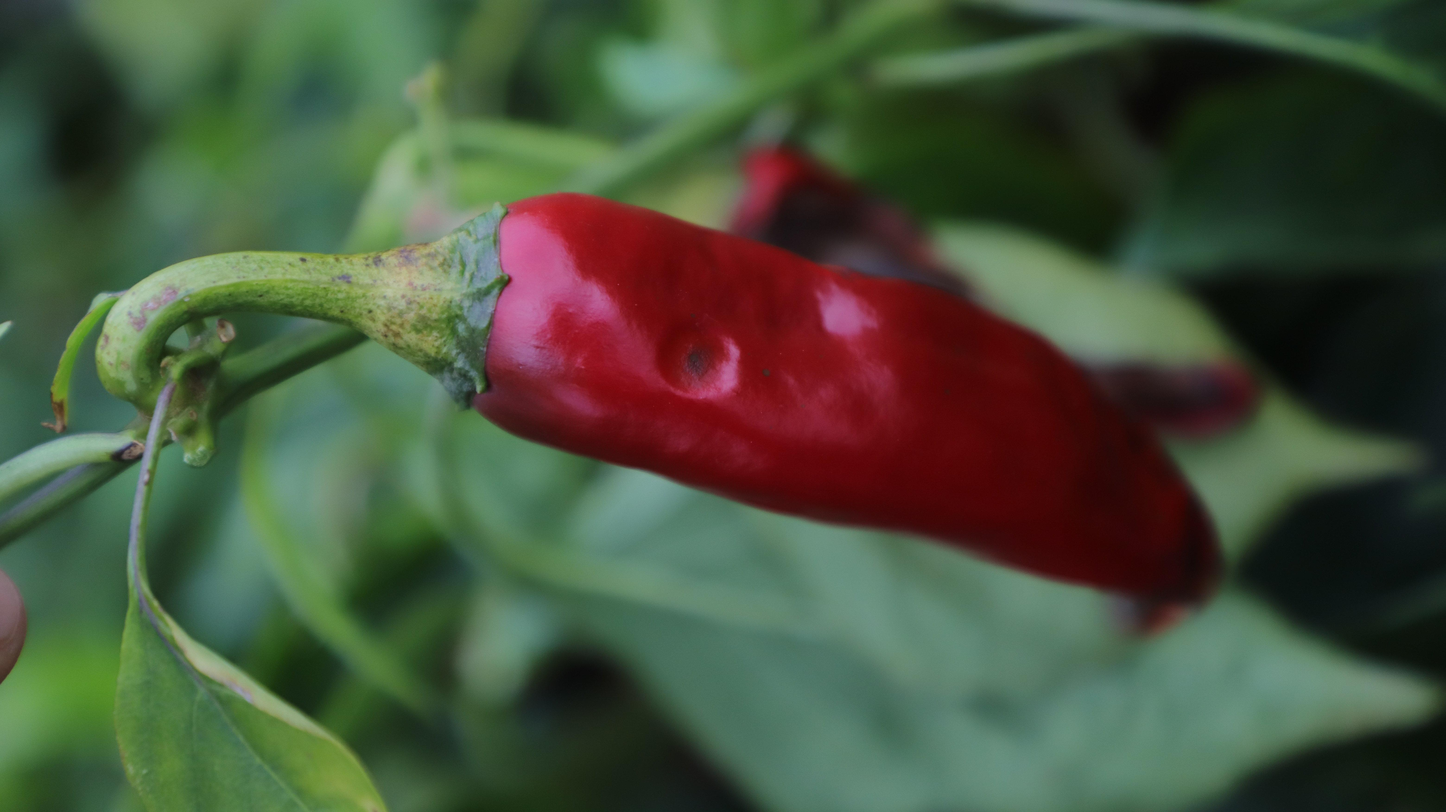Busuk Buah Antraknosa: (368, 186, 1247, 631)
